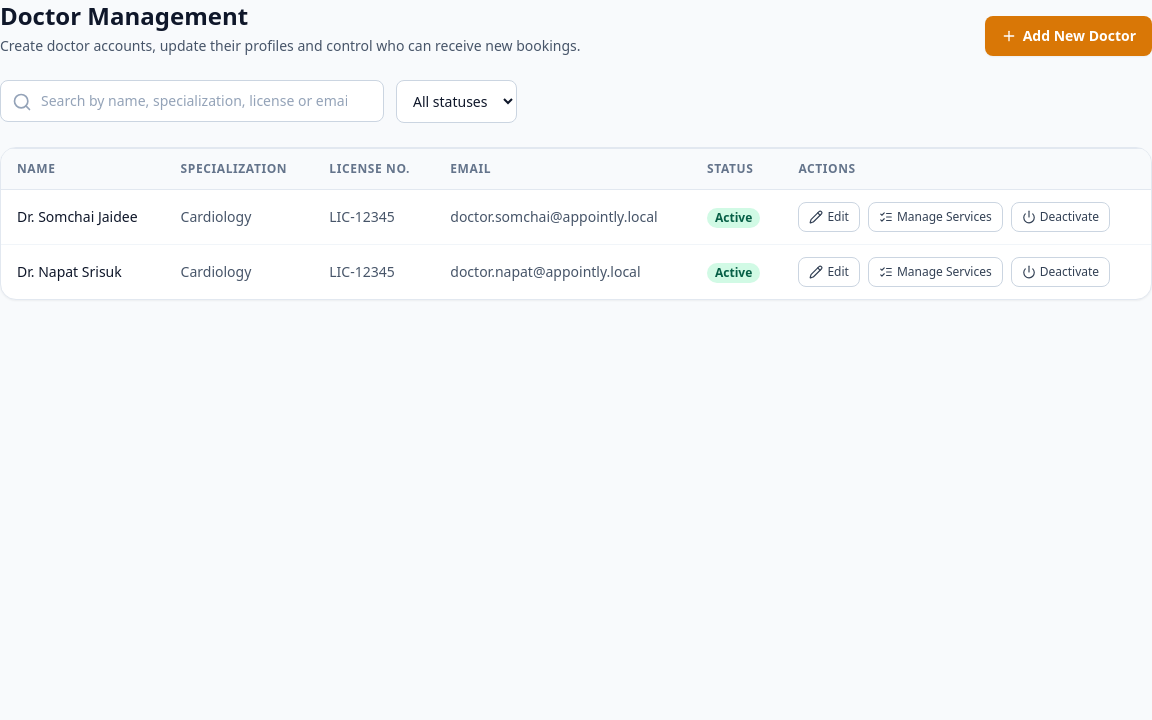
it: Admin Doctor-Service Assignment (/admin/doctors → Manage Services) › assigns a service immediately (POST), flips the row and shows a success alert
The image size is (1152, 720).
Expected: the table is shown, [1, 148, 1151, 299]
Click the button with aria-label "Manage services for Dr. Somchai Jaidee".
click(935, 217)  # box [868, 202, 1003, 232]
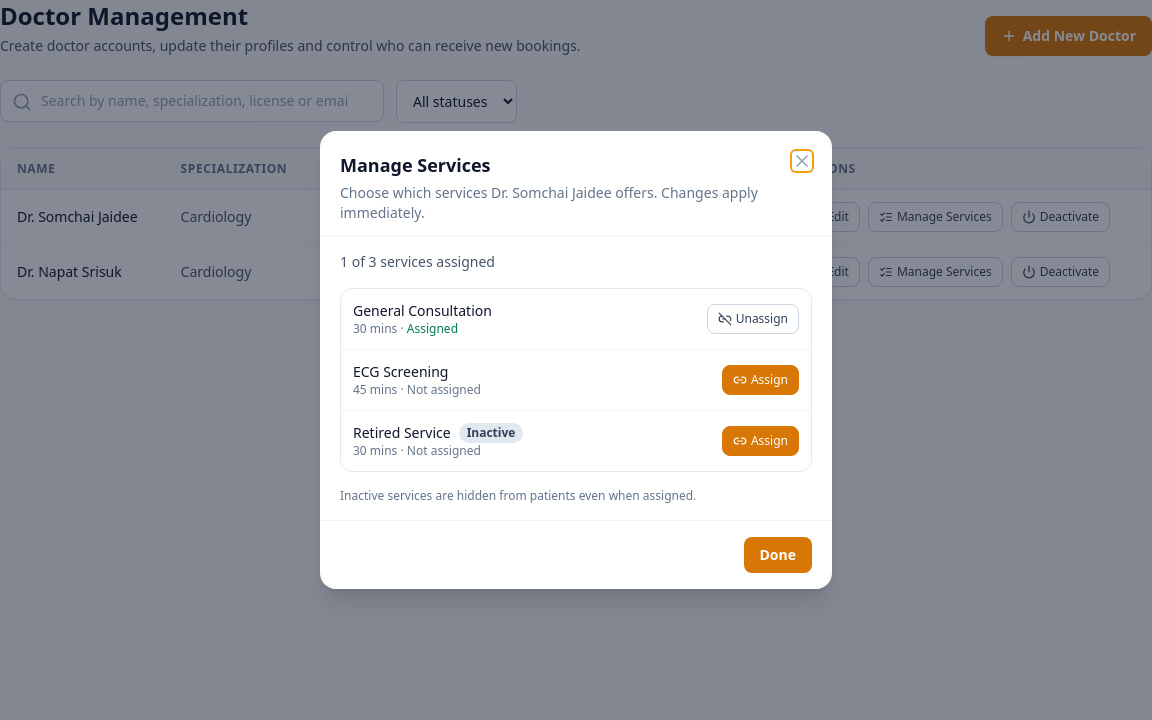
Expected: the list named "Clinic services" is shown, [340, 288, 812, 472]
Click the button with aria-label "Assign ECG Screening".
click(760, 380)  # box [722, 365, 799, 395]
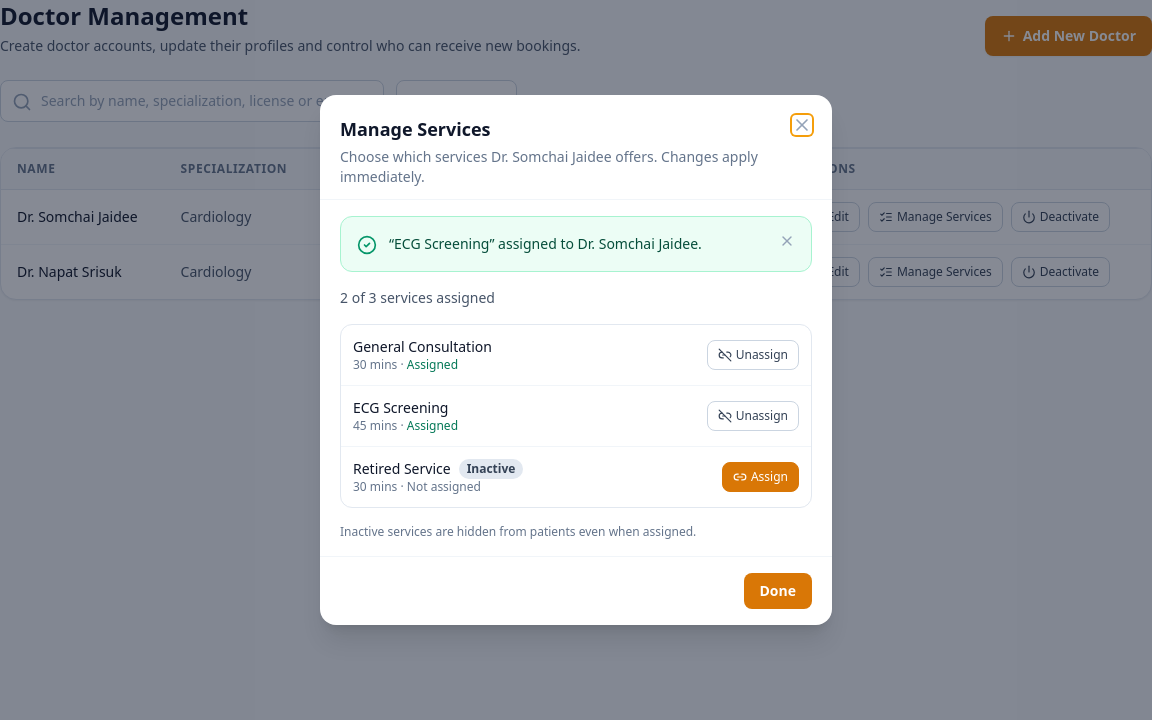
Expected: the button with aria-label "Unassign ECG Screening" is shown, [707, 401, 799, 431]
Expected: the message shows "“ECG Screening” assigned to Dr. Somchai Jaidee", [389, 234, 702, 253]
Expected: the text "2 of 3 services assigned" is shown, [340, 288, 495, 307]
